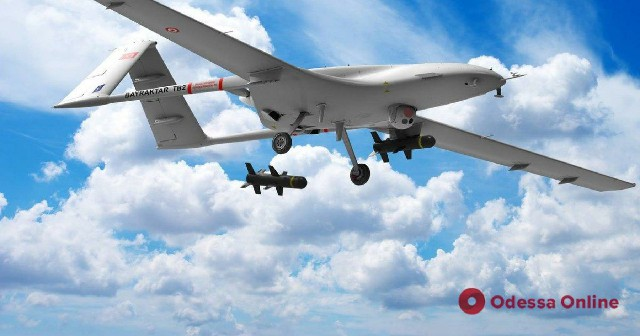maybay_khongnguoilai: (57, 1, 630, 202)
